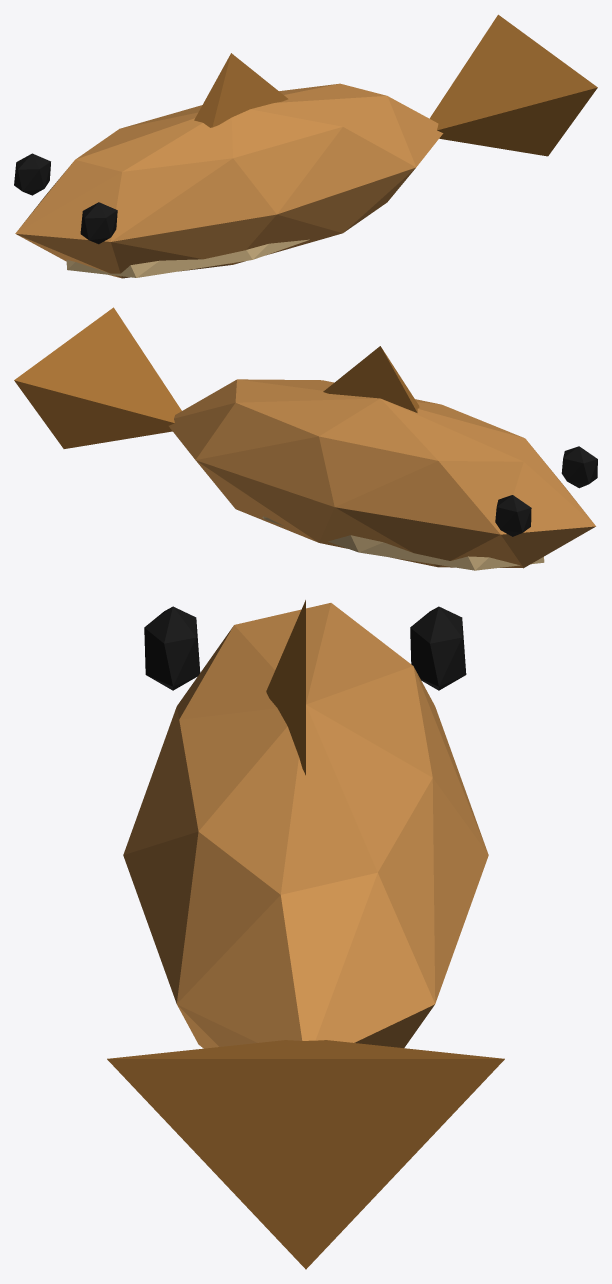
File: drop_fish_cooked.glb
3 views of the same model, one above another, from view 1: azimuth 30°, elevation 25°; view 2: azimuth 150°, elevation 25°; view 3: azimuth 270°, elevation 25° (orthographic). The views are drawn at different scales.
Visible parts, largest first — view 1: drop_fish_cooked; view 2: drop_fish_cooked; view 3: drop_fish_cooked.
Boxes of the visible parts, x1,y1,x2,y2 form: drop_fish_cooked: [14, 14, 597, 278]; drop_fish_cooked: [14, 307, 597, 570]; drop_fish_cooked: [107, 600, 504, 1269].
Bounding box in the file's own units: 0.37 × 0.135 × 0.12.
